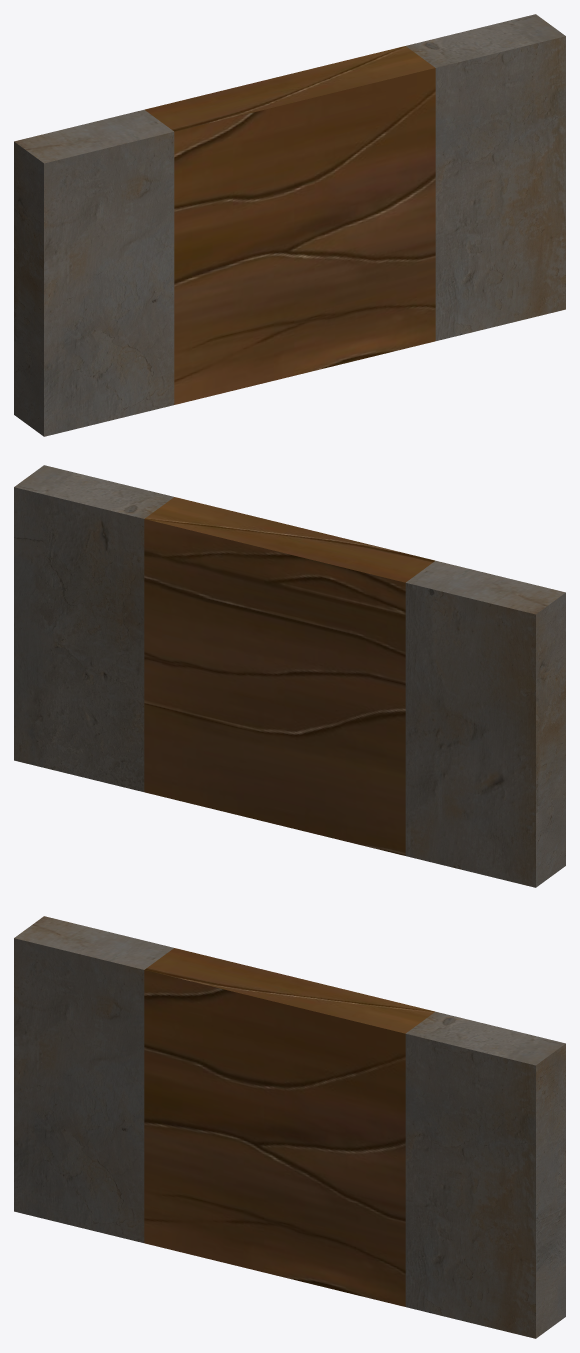
File: unifiedblock.fbx
3 views of the same model, one above another, from view 1: azimuth 30°, elevation 25°; view 2: azimuth 150°, elevation 25°; view 3: azimuth 330°, elevation 25° (orthographic).
Visible parts, largest first — view 1: Cube; view 2: Cube; view 3: Cube.
Part boxes in pixels (<box>): Cube: <box>14,14,565,436</box>; Cube: <box>14,465,565,887</box>; Cube: <box>14,916,565,1338</box>.
Size of the model in its own units: 200 by 100 by 20.03.
